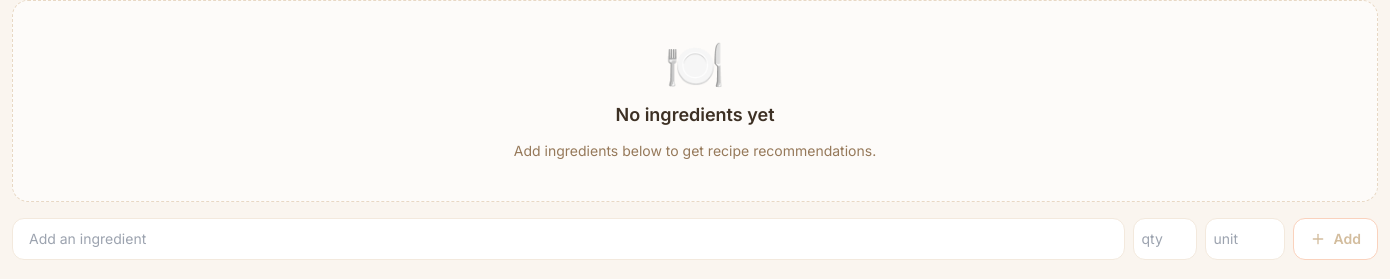
Test: IngredientReviewList › adds a new ingredient via the input
Step 1. Type "basil" into the field labelled "Add an ingredient" → [568, 239], box [12,218,1124,260]
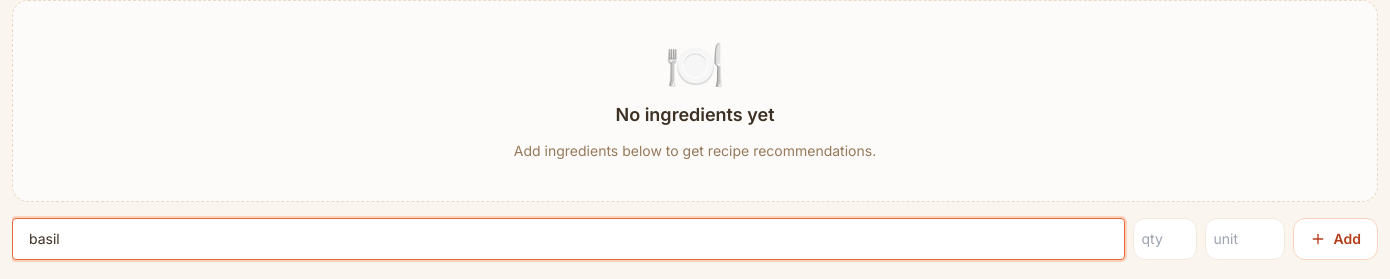
Step 2. Click the button "Add" → [1335, 239], box [1292,218,1378,260]
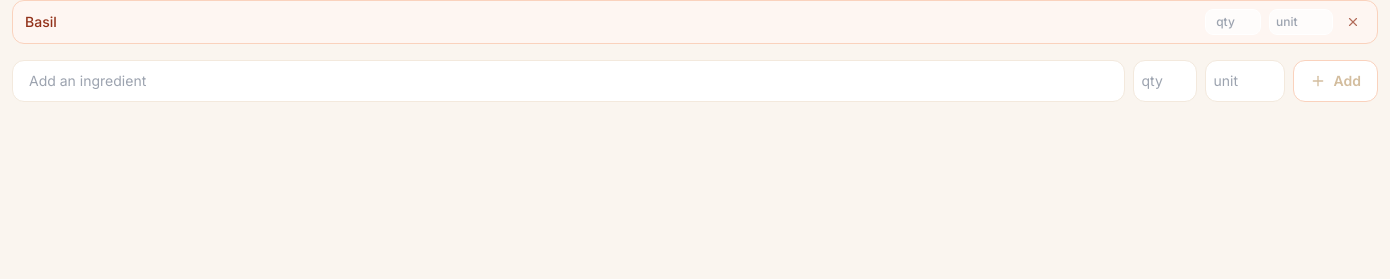
Expected: the text "basil" is shown, [25,13,57,30]
